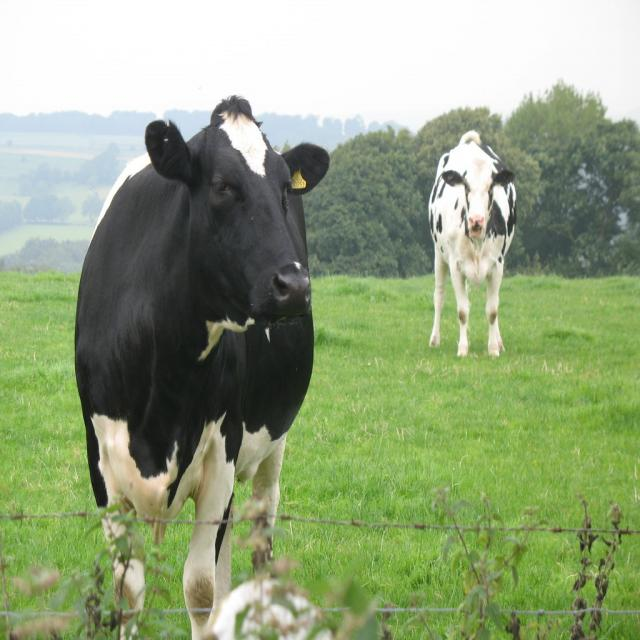Cattle: (75, 94, 330, 640), (429, 130, 516, 357)
